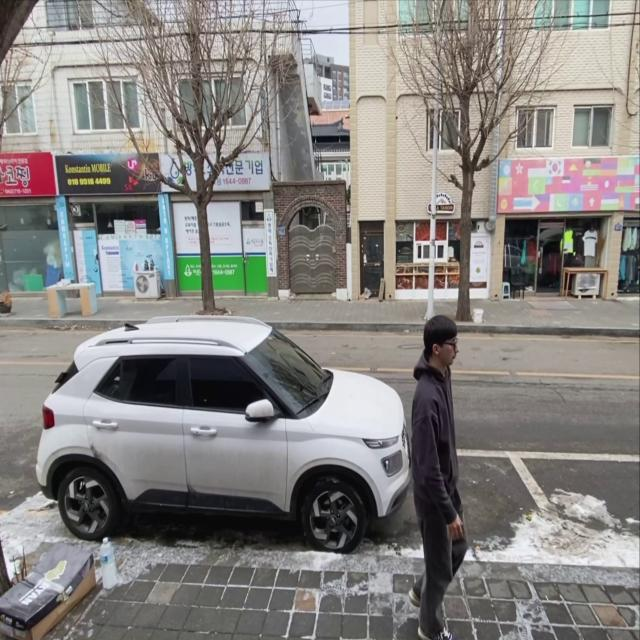bare_hand: (439, 513, 470, 546)
